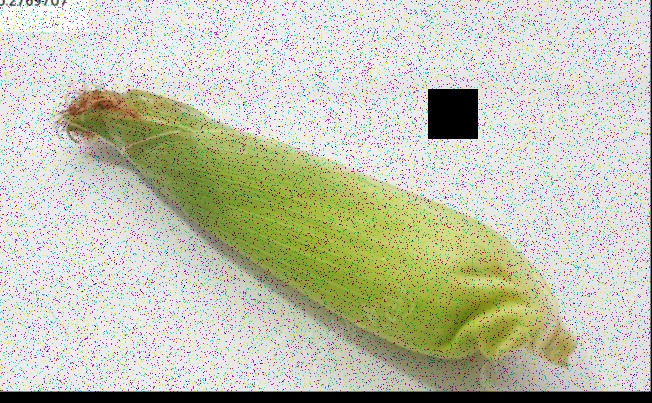corn_plant: (49, 67, 589, 378)
